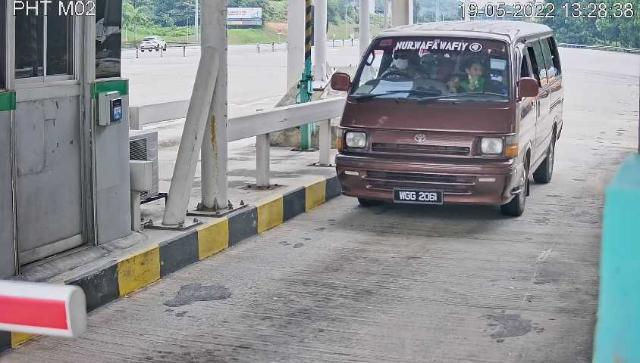License_Plate: (393, 189, 445, 207)
van: (337, 20, 565, 218)
